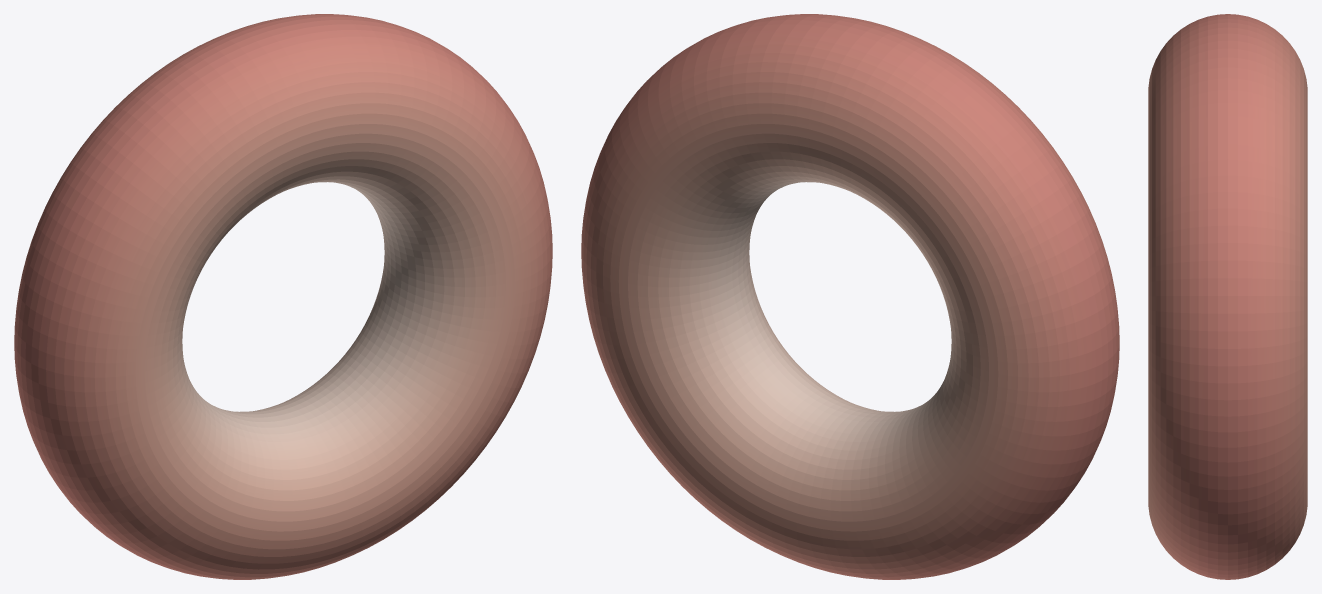
The picture shows the model from 3 angles, left to right: view 1: azimuth 30°, elevation 25°; view 2: azimuth 150°, elevation 25°; view 3: azimuth 270°, elevation 25°; orthographic projection. The views are drawn at different scales.
Parts seen in each view (by area): view 1: world; view 2: world; view 3: world.
Boxes of the visible parts, box(x1,y1,x2,y2) form: world: box(14, 14, 552, 579); world: box(581, 14, 1119, 579); world: box(1148, 14, 1307, 579).
Bounding box in the file's own units: 27.87 × 27.87 × 7.85.
